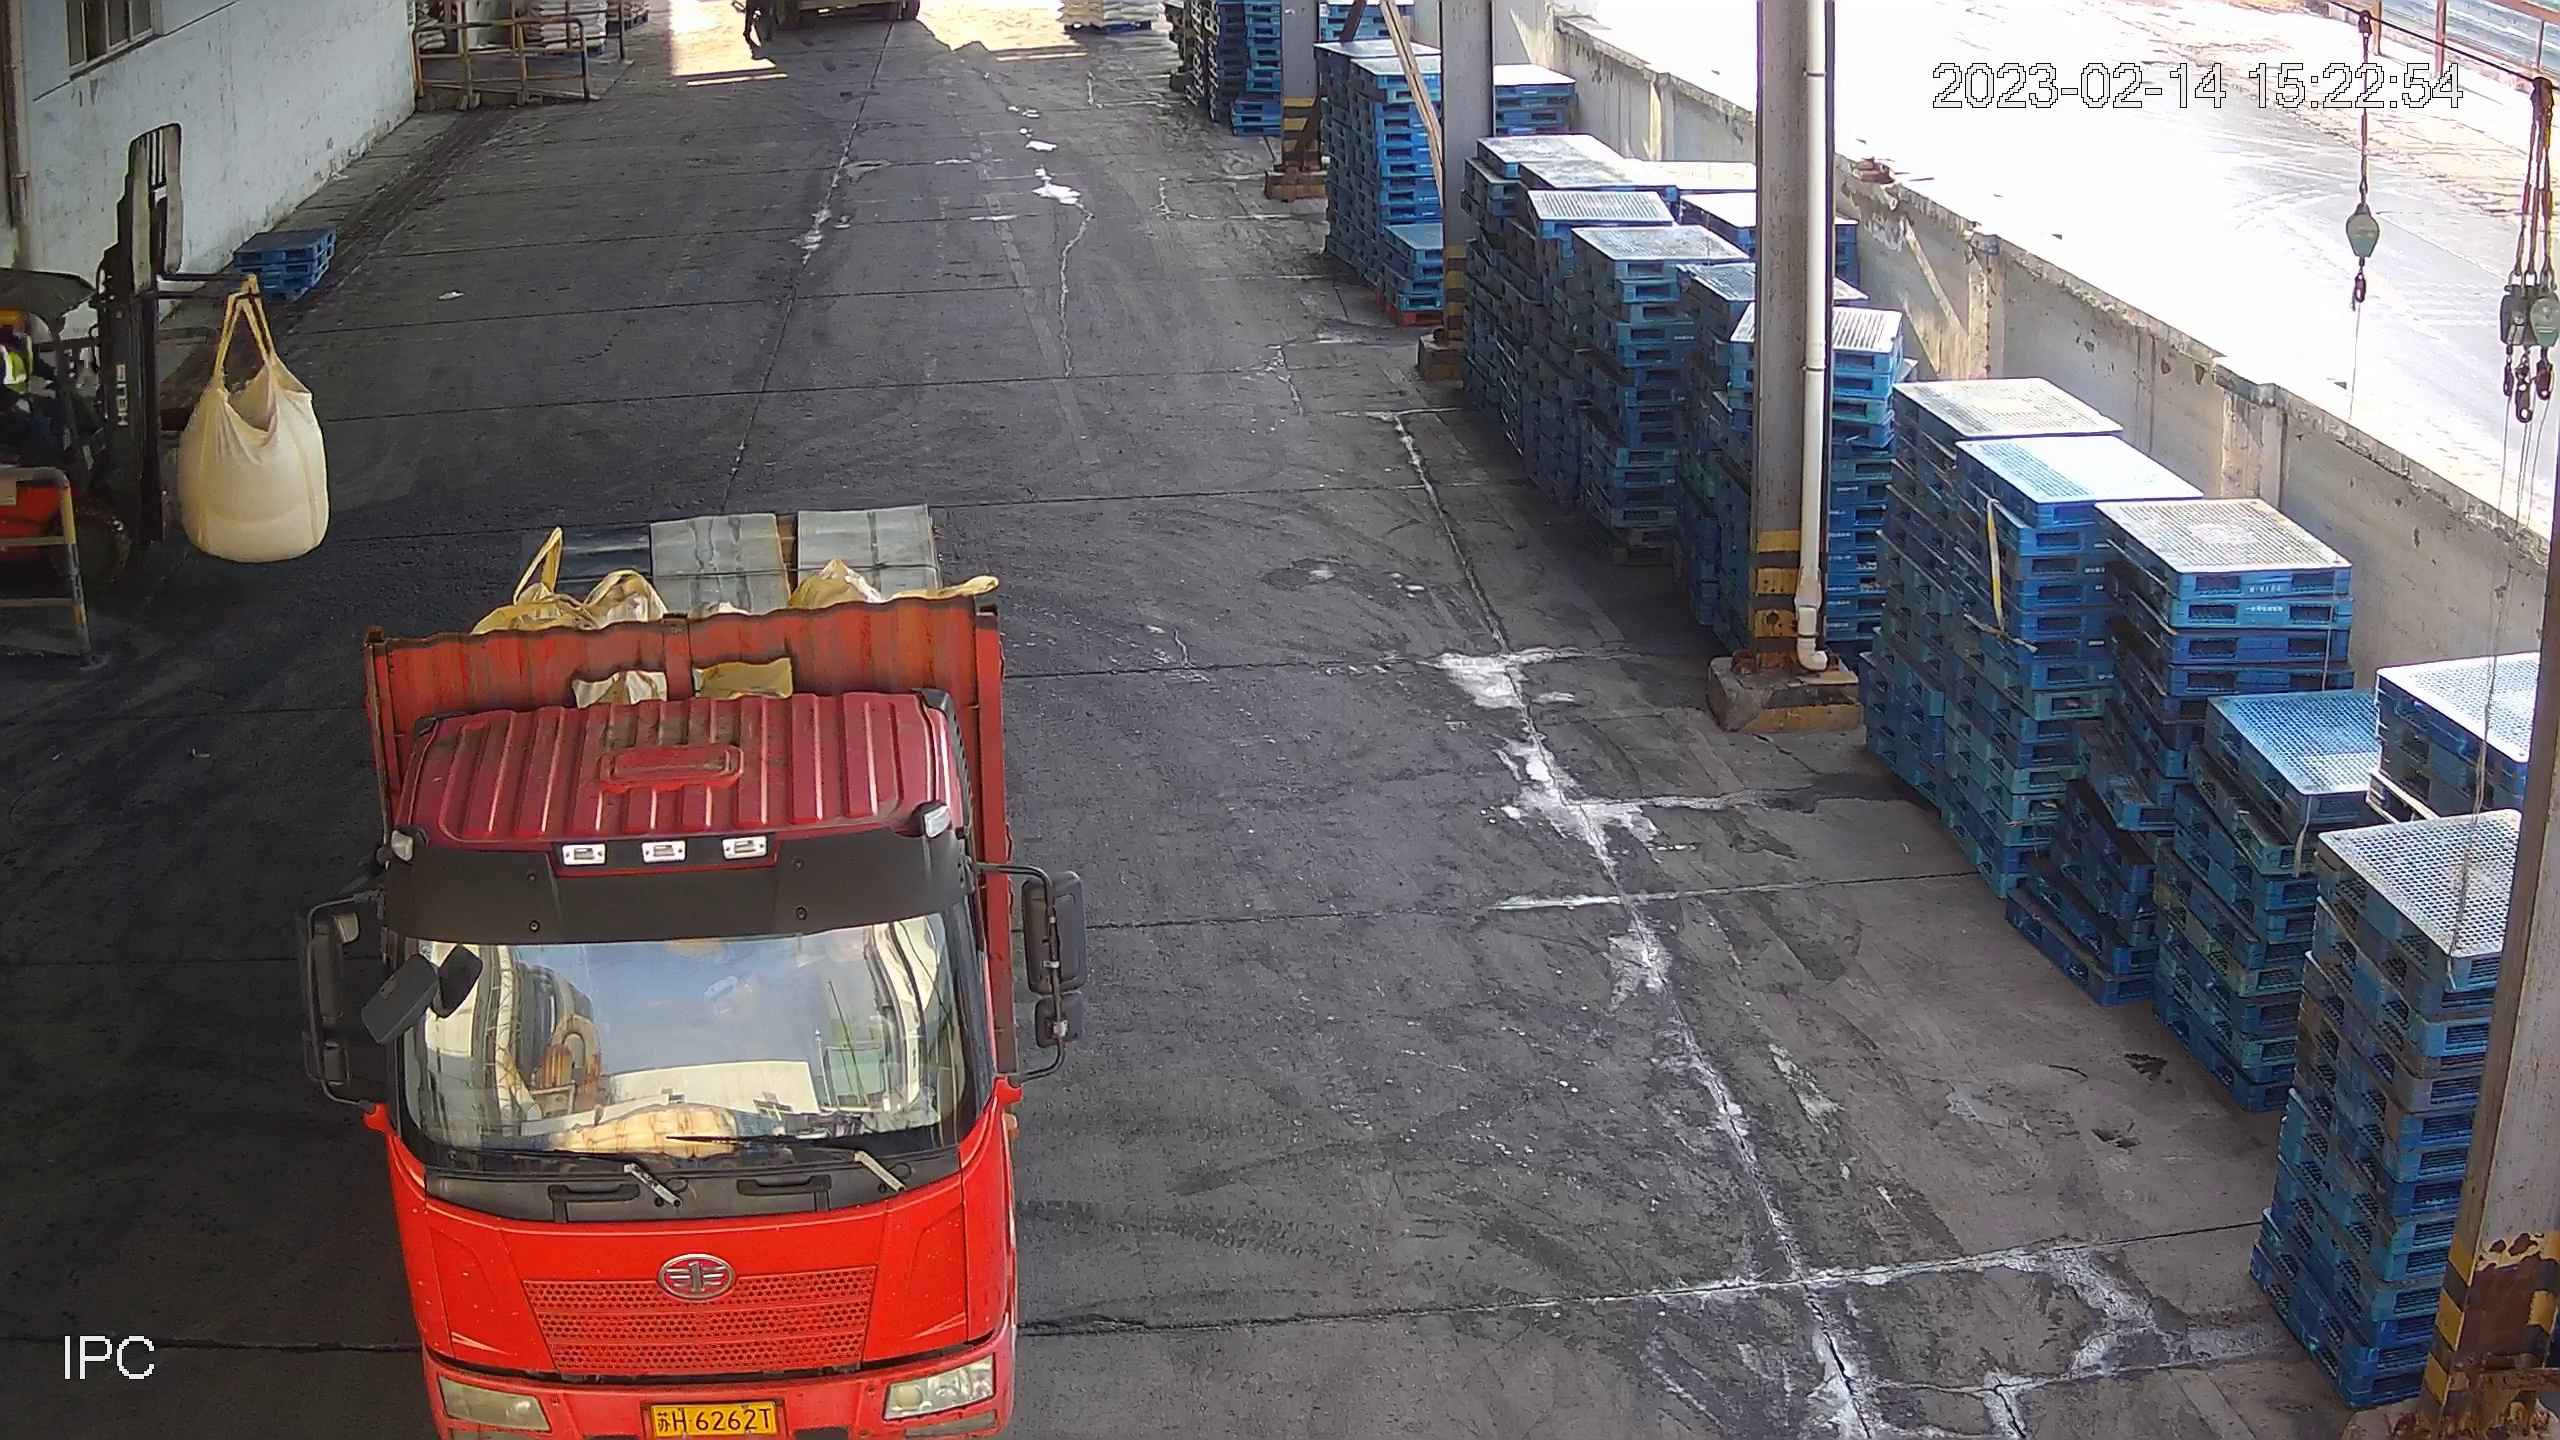truck: (295, 506, 1097, 1440)
